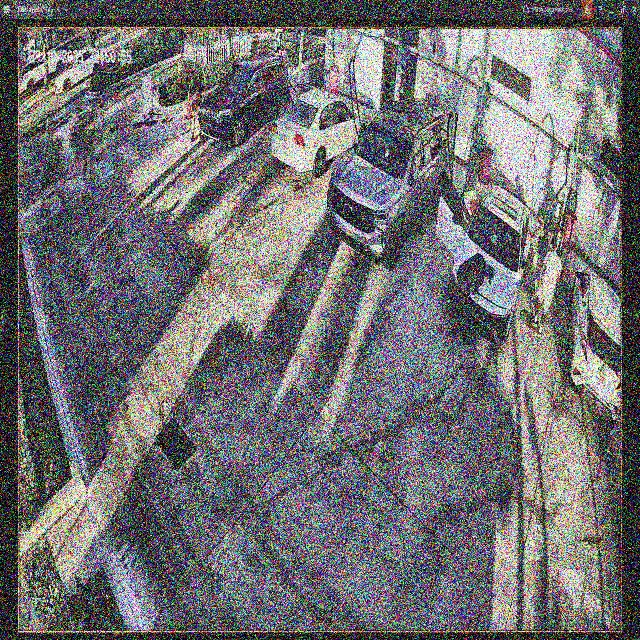Car: (329, 99, 454, 263), (441, 175, 530, 345), (274, 89, 366, 176), (199, 58, 289, 146)
